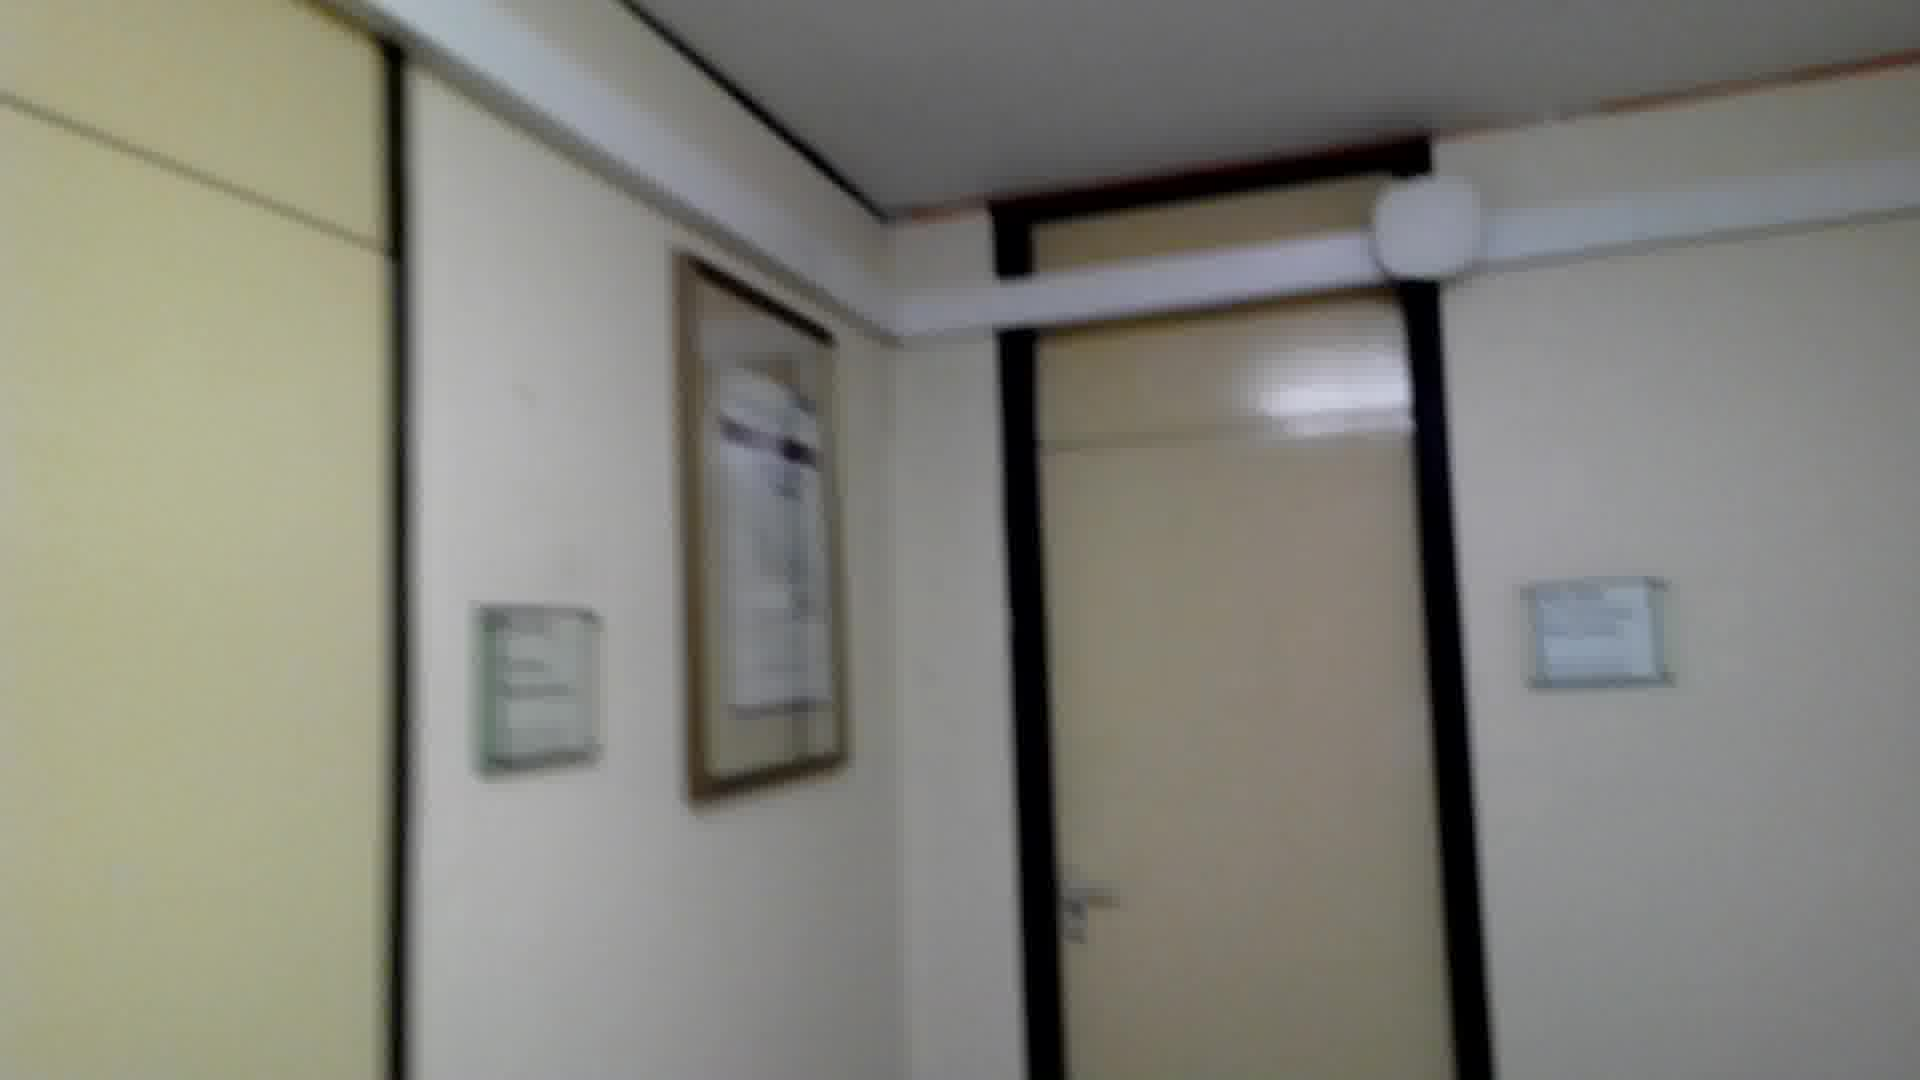Door: (978, 411, 1536, 1080)
